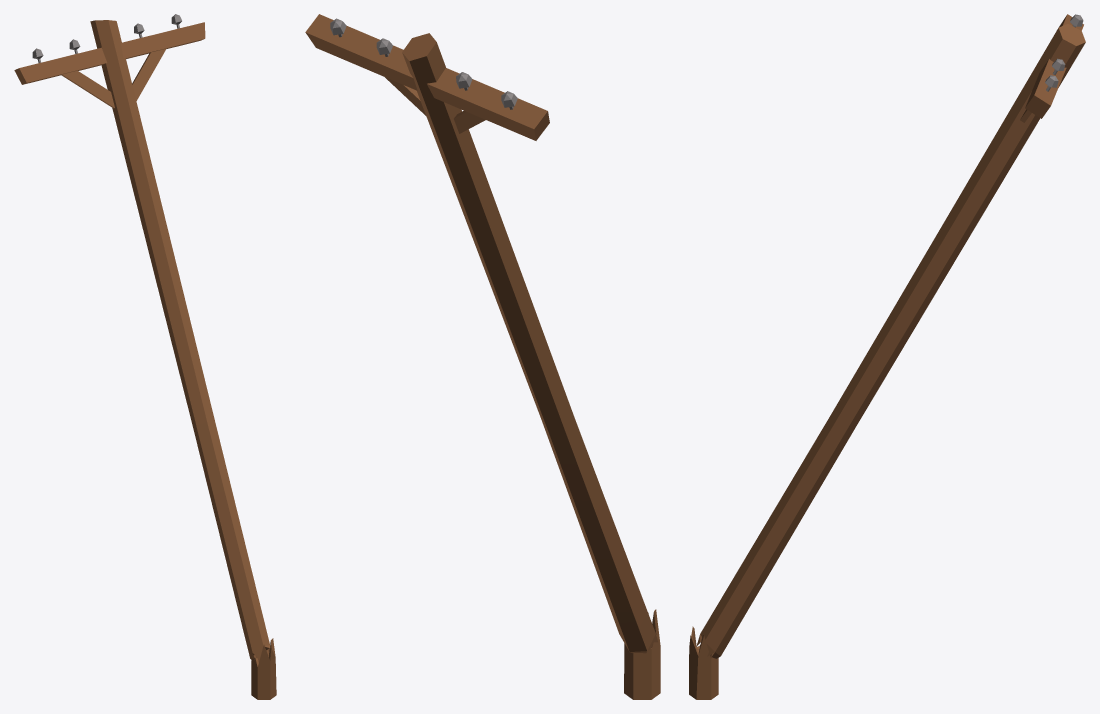
The model's file is apocalypse_pole-electric-apocalypse-a.fbx.
3 renders of one model, left to right at view 1: azimuth 30°, elevation 25°; view 2: azimuth 150°, elevation 25°; view 3: azimuth 270°, elevation 25°, orthographic. The views are drawn at different scales.
Parts seen in each view (by area): view 1: apocalypse_pole_electric_apocalypse_a; view 2: apocalypse_pole_electric_apocalypse_a; view 3: apocalypse_pole_electric_apocalypse_a.
Boxes of the visible parts, bbox=[...] form: apocalypse_pole_electric_apocalypse_a: bbox=[14, 14, 276, 699]; apocalypse_pole_electric_apocalypse_a: bbox=[305, 14, 660, 699]; apocalypse_pole_electric_apocalypse_a: bbox=[689, 14, 1085, 699].
Size of the model in its own units: 64.34 by 200 by 108.
